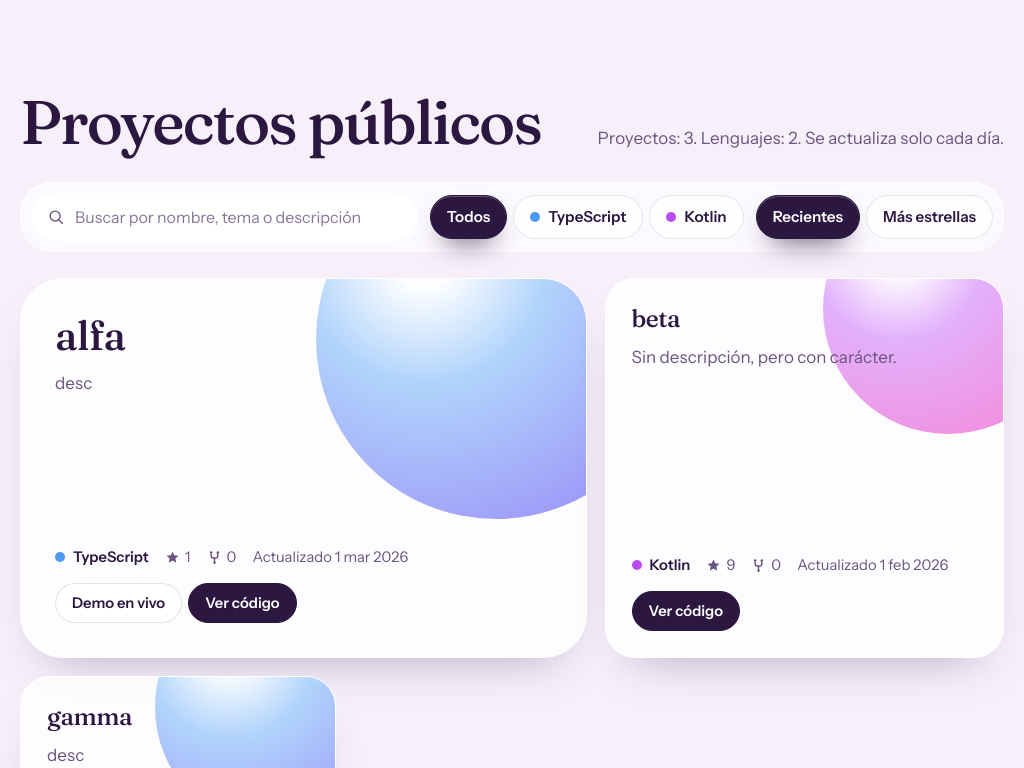
Projects › filtra por lenguaje y vuelve a todos al tocar de nuevo
Later steps or results of the test are not shown.
Click the button "TypeScript" at point(578, 217), box [513, 195, 644, 239]
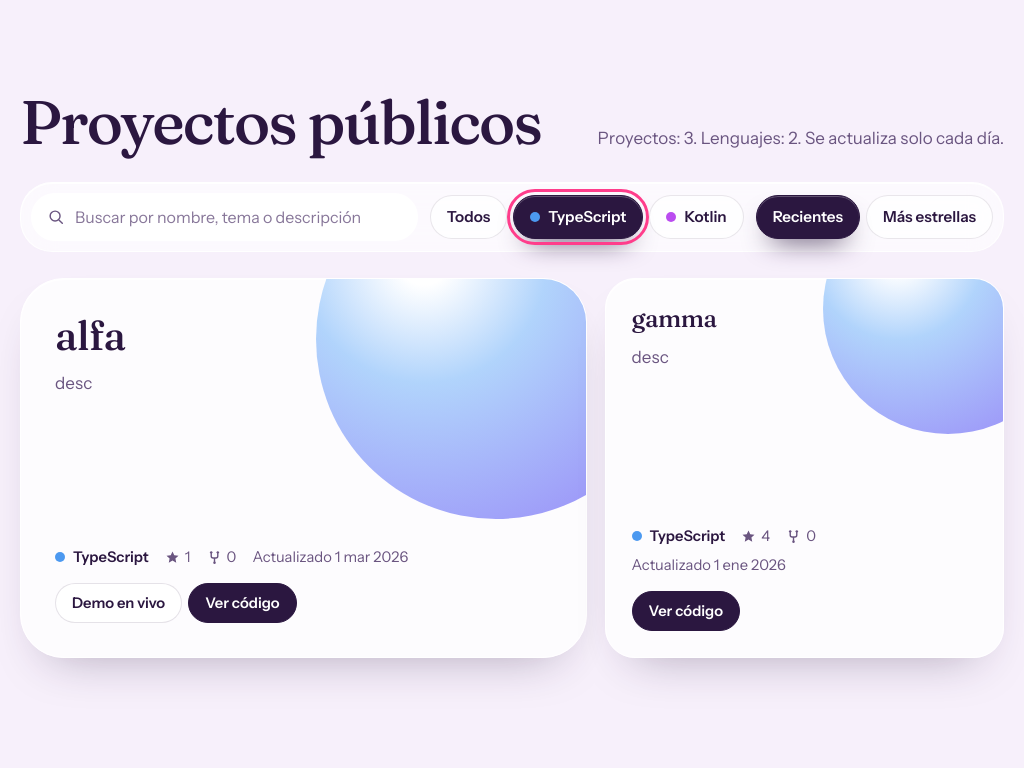
Expected: the button "TypeScript" is pressed, [513, 195, 644, 239]
